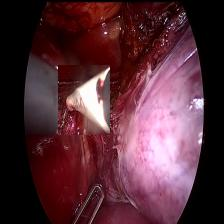Grasper: (69, 180, 107, 224)
Hook: (57, 64, 109, 134)
